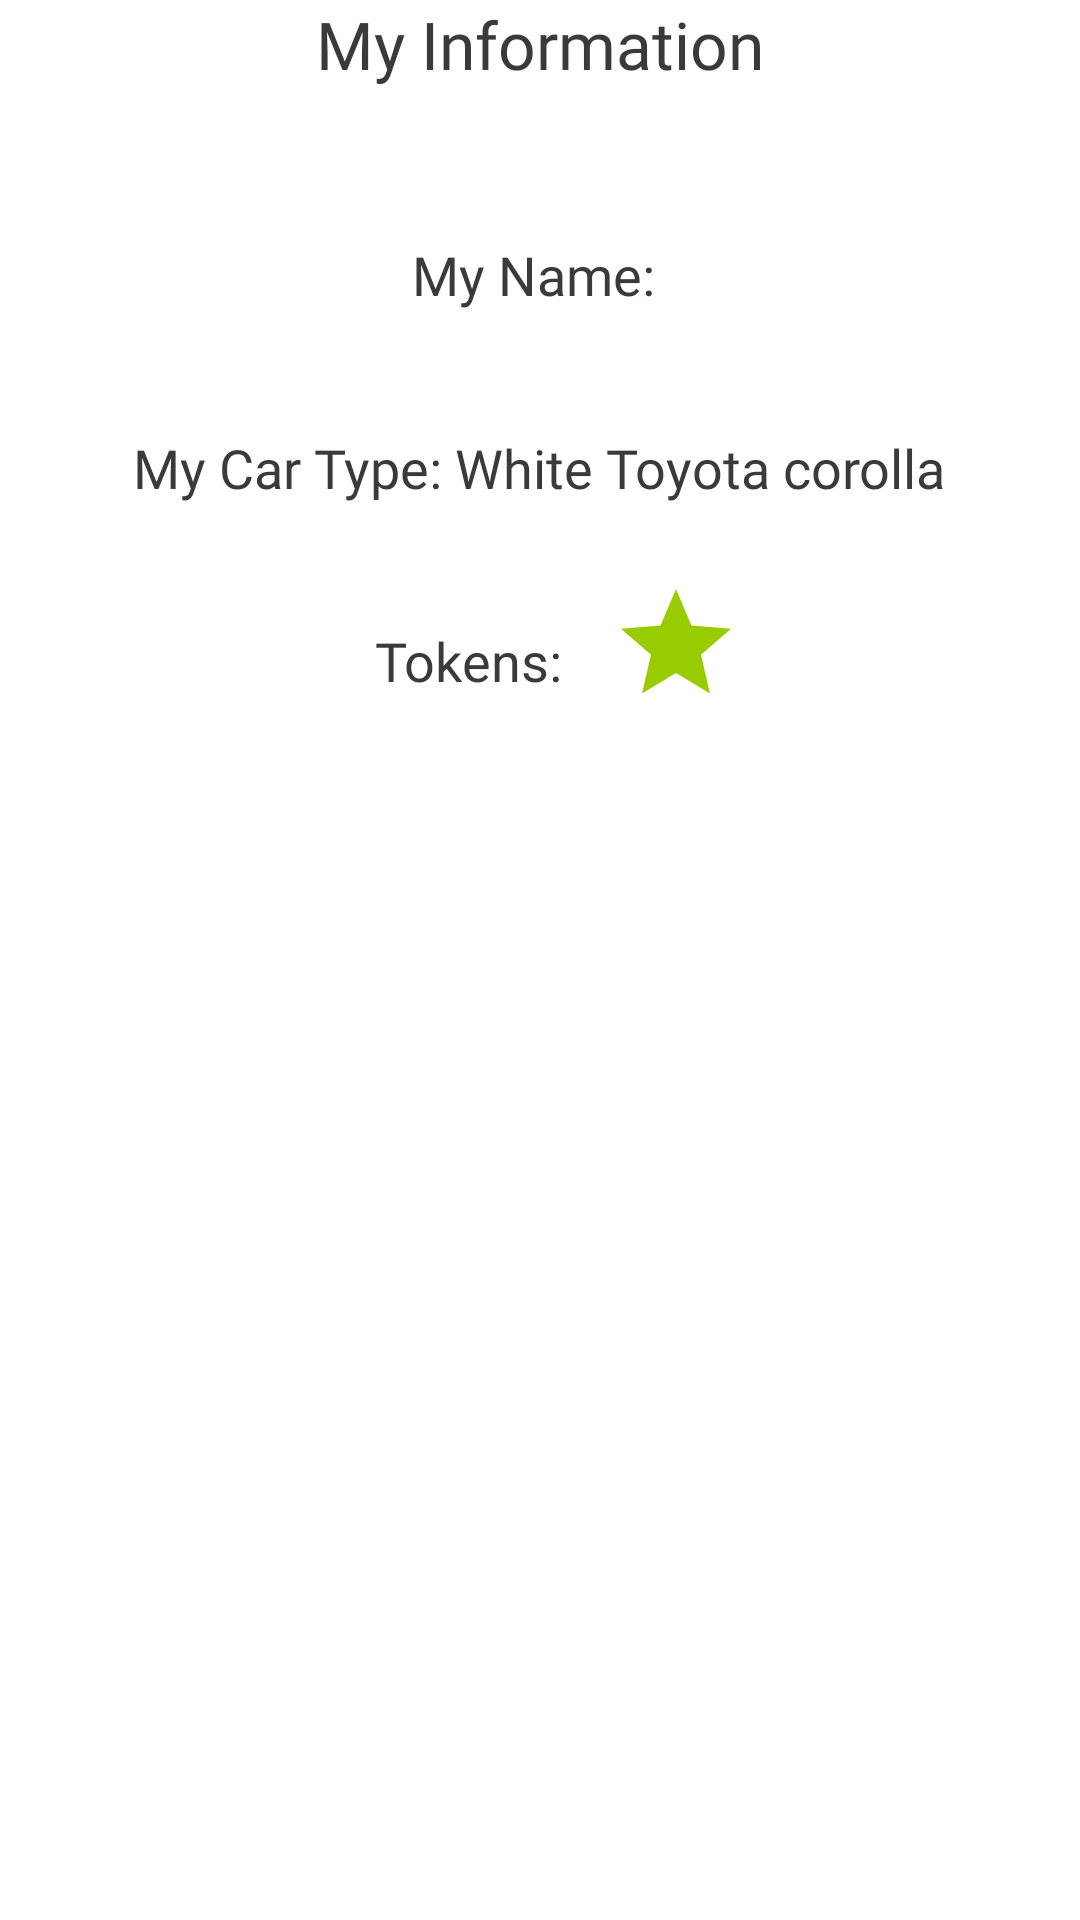

Named icons in this screenshot (1080px×1920px) and their bounding boxes, [x1,y1,x2,y2]:
star: [621,589,731,694]
